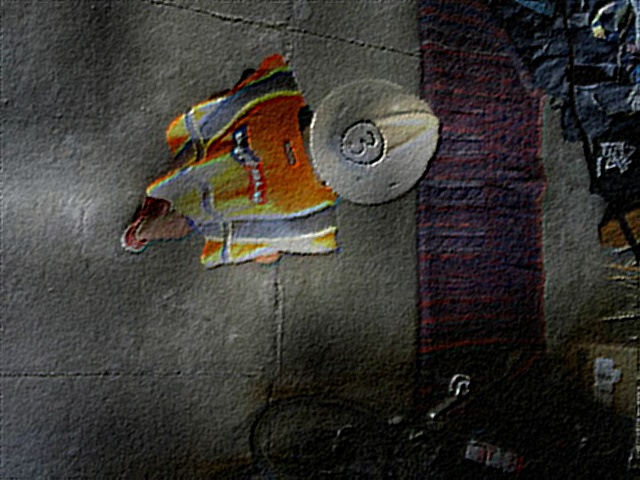three: (340, 121, 386, 167)
